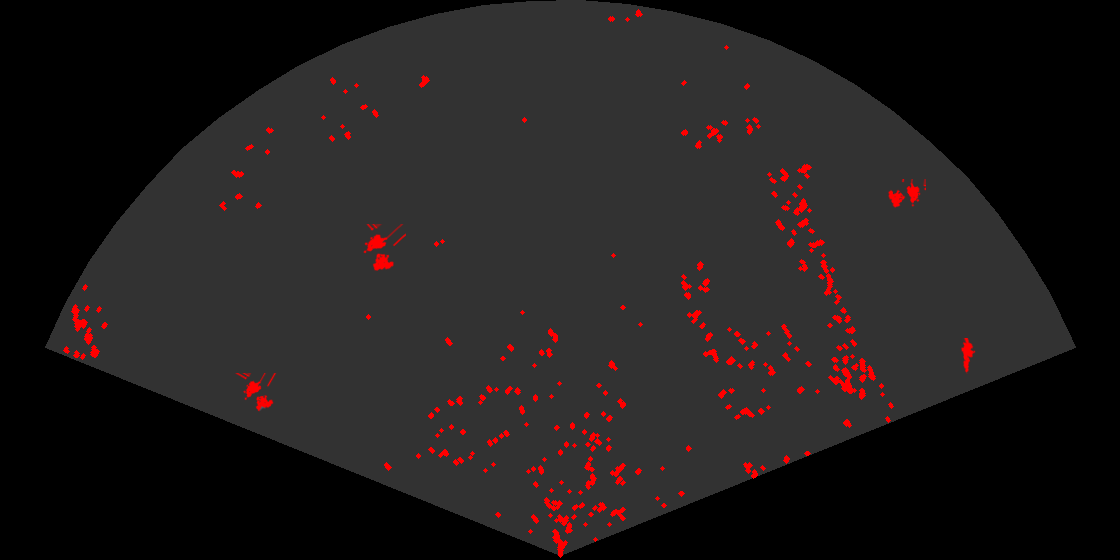cage: (362, 224, 406, 273), (234, 373, 278, 413), (887, 179, 926, 209)
frogman: (960, 338, 977, 374)
